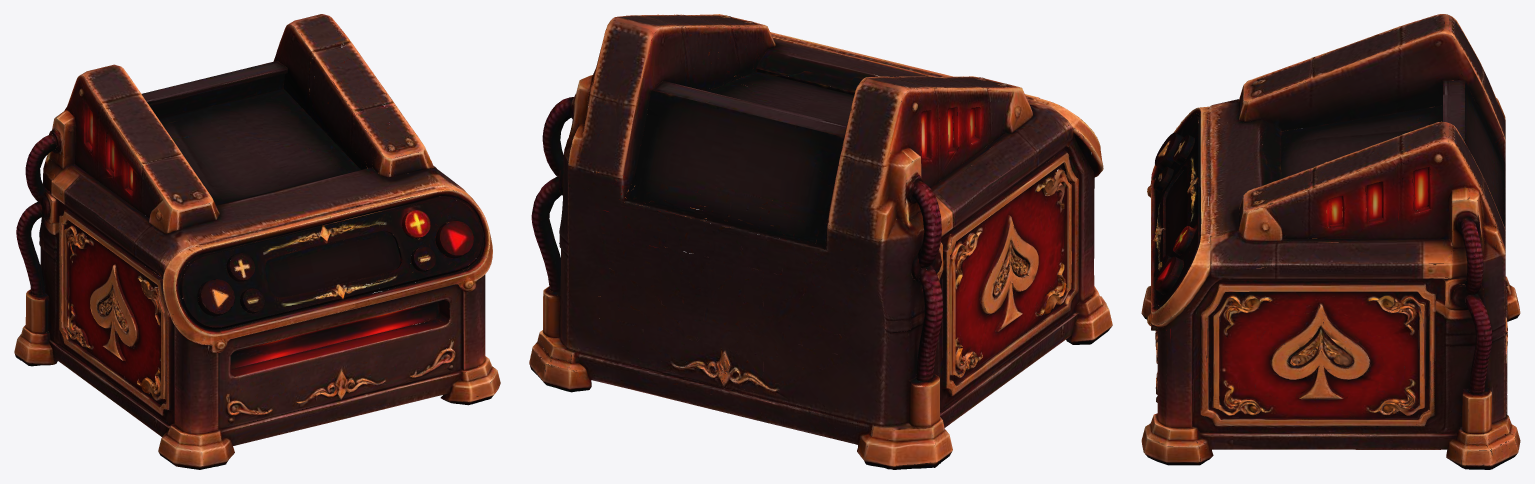
Rendered from shufle_medium.glb.
The picture shows the model from 3 angles, left to right: view 1: azimuth 30°, elevation 25°; view 2: azimuth 150°, elevation 25°; view 3: azimuth 270°, elevation 25°; orthographic projection. The views are drawn at different scales.
Parts seen in each view (by area): view 1: Mesh_0; view 2: Mesh_0; view 3: Mesh_0.
Boxes of the visible parts, box(x1,y1,x2,y2) form: Mesh_0: box(14, 14, 500, 469); Mesh_0: box(529, 14, 1112, 469); Mesh_0: box(1141, 14, 1520, 469).
Bounding box in the file's own units: 0.8048 × 0.6535 × 0.7299.
1 material, 1 textured.
